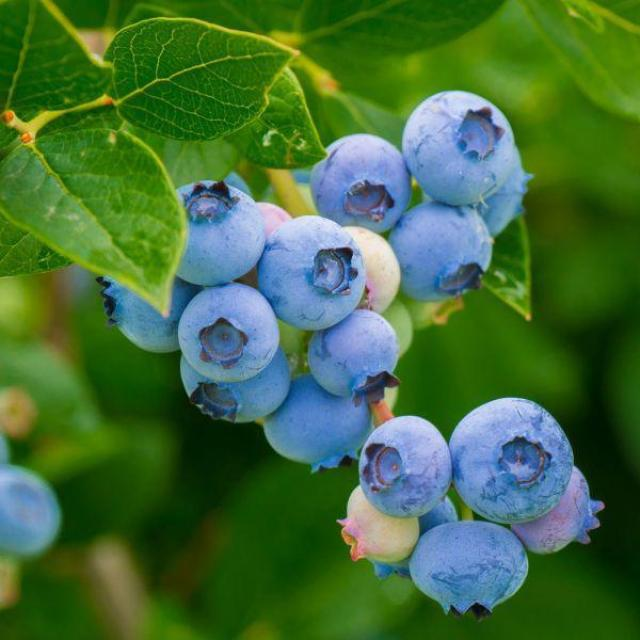BlueBerry - v1: (440, 388, 586, 527), (399, 508, 545, 628), (392, 81, 522, 207), (254, 211, 372, 333), (264, 367, 387, 476), (350, 406, 464, 523), (383, 195, 502, 306), (160, 170, 270, 288), (299, 127, 416, 237), (170, 278, 284, 382), (298, 302, 408, 406), (88, 261, 191, 370), (168, 350, 298, 435), (511, 457, 613, 561), (329, 476, 424, 572)
